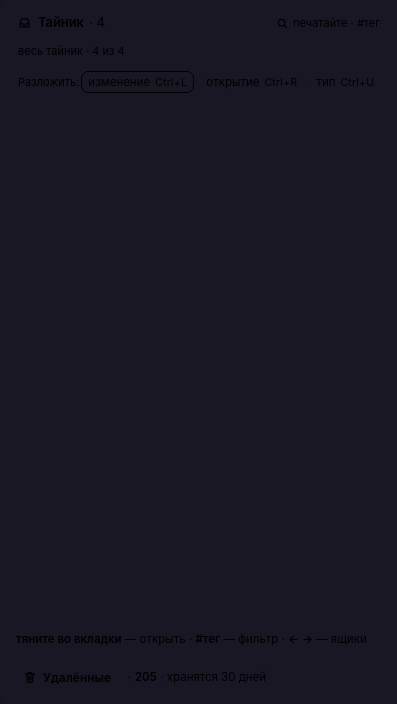
Test: StashDrawer — the trash (stage 06) › caps the trash like the stash, with «ещё N»
This screenshot has width=397, height=704.
Click the button with class "stash-btn" at (68, 677), box [16,666,120,688]
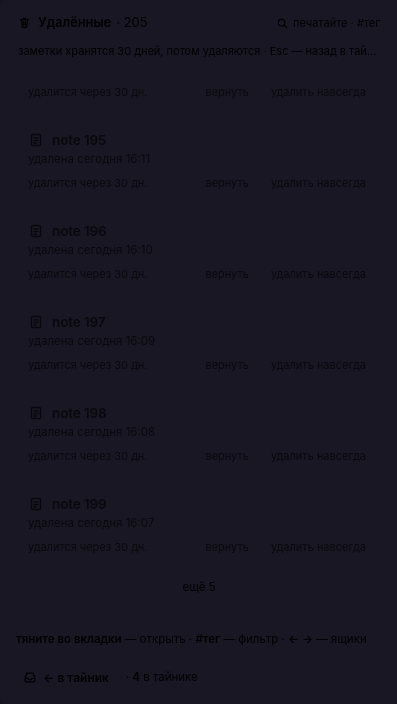
Expected: the text with class "more" reads "ещё 5", [182,580,215,594]
